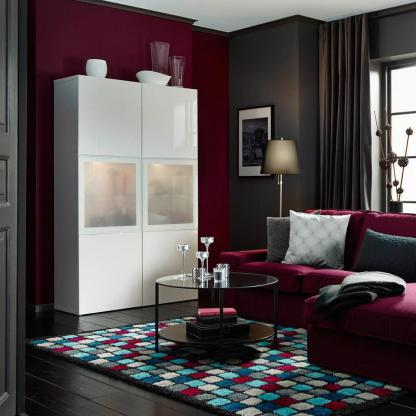Sofa: (215, 205, 416, 378)
Table: (154, 266, 283, 359)
